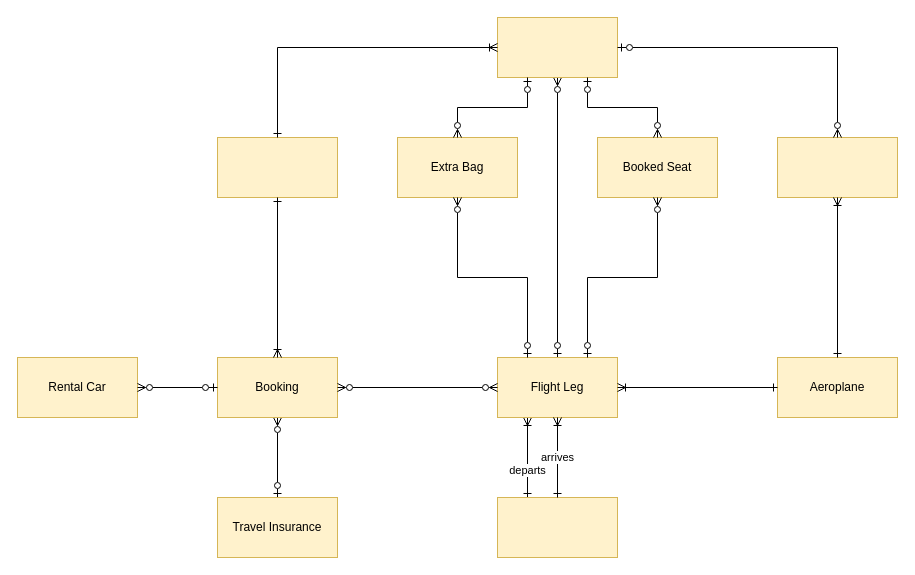
The diagram is 915 pixels wide and 575 high, and some of its shapes have lost their labels. Here are the shapes that lost their labels. From the top down, the centre of each, then its label:
At (557,47): "Passenger".
At (277,167): "Login".
At (837,167): "Seat".
At (557,527): "Airport".
